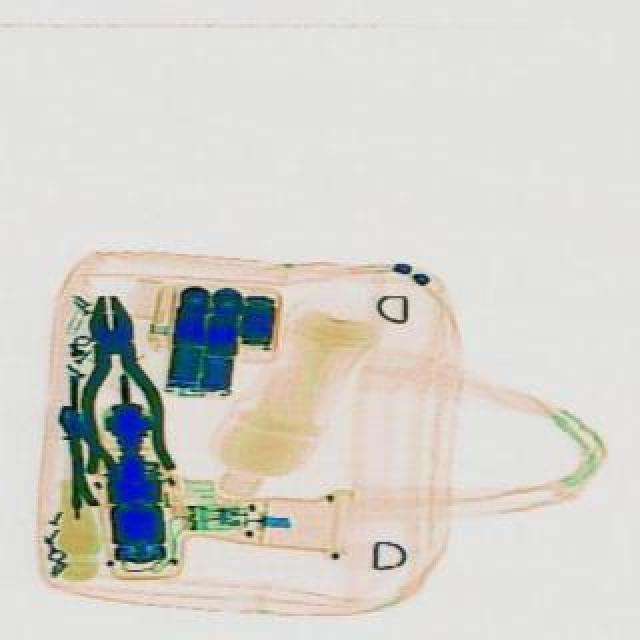wrench: (68, 290, 176, 478), (46, 396, 134, 508)
